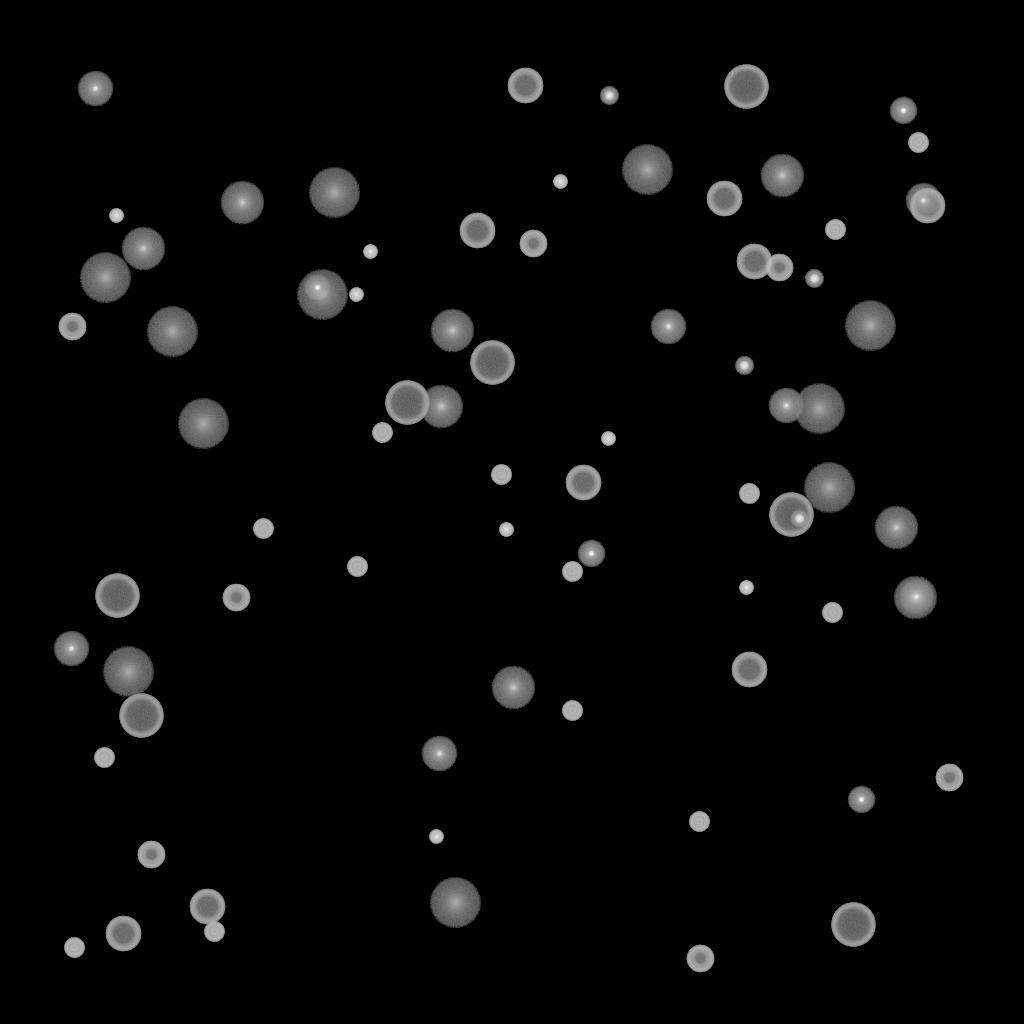depth:-10: (303, 274, 331, 302), (577, 540, 605, 568), (847, 786, 875, 814), (889, 97, 917, 125)
depth:-20: (735, 357, 753, 375), (790, 510, 808, 528), (805, 270, 823, 288), (600, 87, 618, 105)
depth:-30: (349, 288, 363, 302), (429, 830, 443, 844), (601, 432, 615, 446), (363, 245, 377, 259), (109, 209, 123, 223), (739, 581, 753, 595), (553, 175, 567, 189), (499, 523, 513, 537)
depth:-40: (908, 133, 928, 153), (347, 557, 367, 577), (825, 220, 845, 240), (562, 562, 582, 582), (204, 922, 224, 942), (253, 519, 273, 539), (64, 938, 84, 958), (372, 423, 392, 443), (689, 812, 709, 832), (491, 465, 511, 485), (562, 701, 582, 721), (822, 603, 842, 623), (94, 748, 114, 768), (739, 484, 759, 504)
depth:-50: (765, 254, 793, 282), (519, 230, 547, 258), (137, 841, 165, 869), (58, 313, 86, 341), (935, 764, 963, 792), (686, 945, 714, 973), (222, 584, 250, 612)
depth:-60: (189, 889, 225, 925), (731, 652, 767, 688), (736, 244, 772, 280), (105, 916, 141, 952), (459, 213, 495, 249), (565, 465, 601, 501), (909, 188, 945, 224), (706, 181, 742, 217), (507, 68, 543, 104)
depth:-70: (724, 65, 768, 109), (769, 493, 813, 537), (385, 381, 429, 425), (119, 694, 163, 738), (831, 903, 875, 947), (470, 341, 514, 385), (95, 574, 139, 618)
depth:0: (905, 183, 941, 219), (421, 736, 457, 772), (77, 71, 113, 107), (898, 579, 934, 615), (768, 388, 804, 424), (53, 631, 89, 667), (650, 309, 686, 345)
depth:10: (430, 309, 474, 353), (491, 666, 535, 710), (220, 181, 264, 225), (893, 576, 937, 620), (760, 154, 804, 198), (419, 385, 463, 429), (874, 506, 918, 550), (121, 227, 165, 271)
depth:20: (177, 399, 229, 449), (308, 168, 360, 218), (146, 307, 198, 357), (79, 253, 131, 303), (621, 145, 673, 195), (793, 384, 845, 434), (429, 878, 481, 928), (296, 270, 348, 320), (844, 301, 896, 351), (803, 463, 855, 513), (102, 647, 154, 697)
